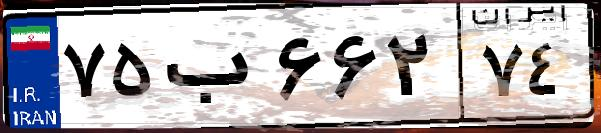2: (385, 28, 445, 110)
4: (525, 38, 570, 115)
5: (110, 28, 158, 98)
6: (270, 28, 330, 110), (330, 28, 385, 110)
7: (57, 26, 110, 100), (475, 38, 525, 113)
ب: (158, 20, 270, 120)
